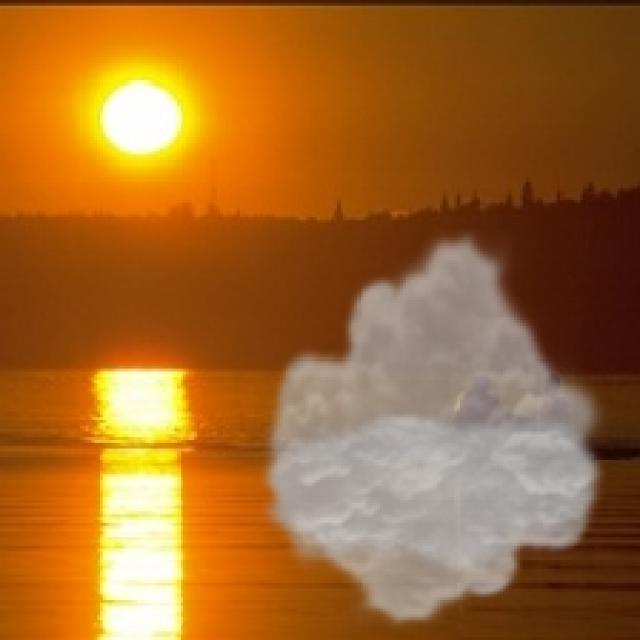smoke: (254, 228, 612, 628)
